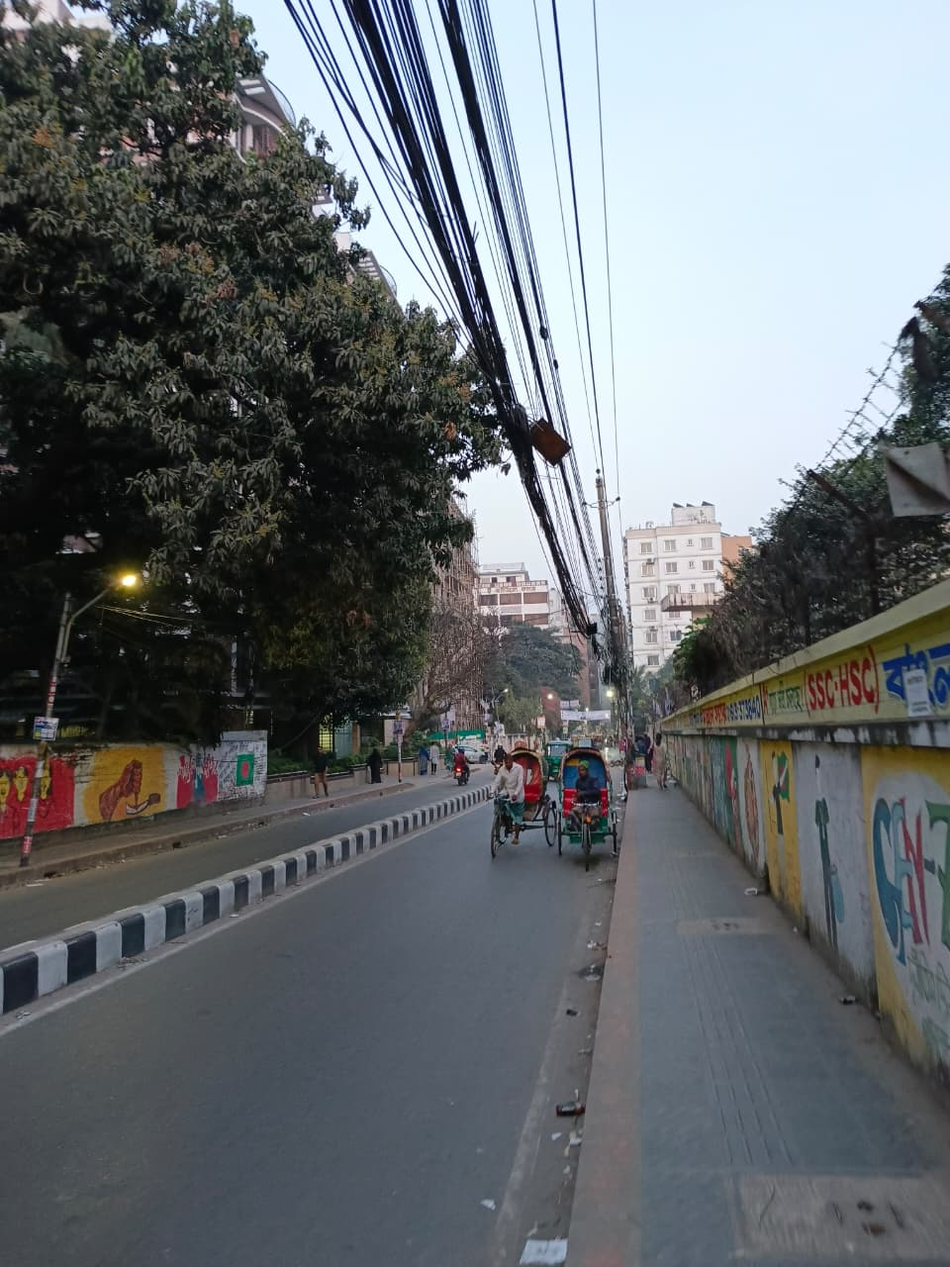Bikes: (435, 733, 495, 817)
auto-ricksaw: (482, 721, 653, 890)
cng: (542, 733, 583, 782)
private car: (456, 736, 493, 765)
